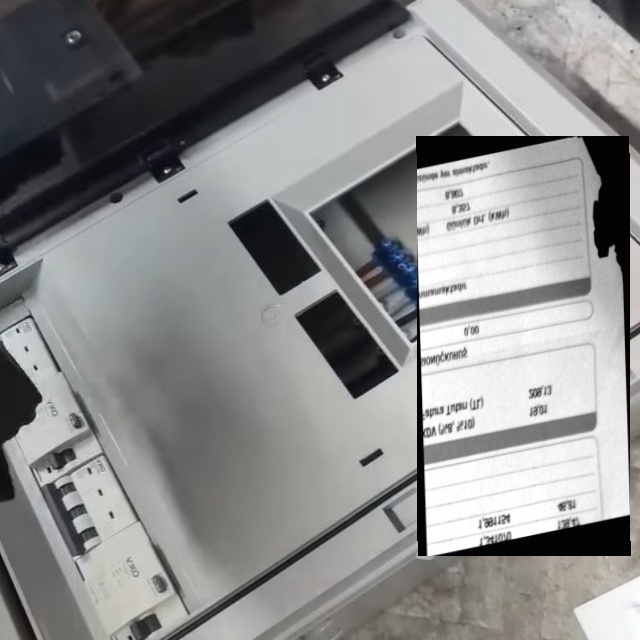electricity-bill: (415, 136, 630, 556)
